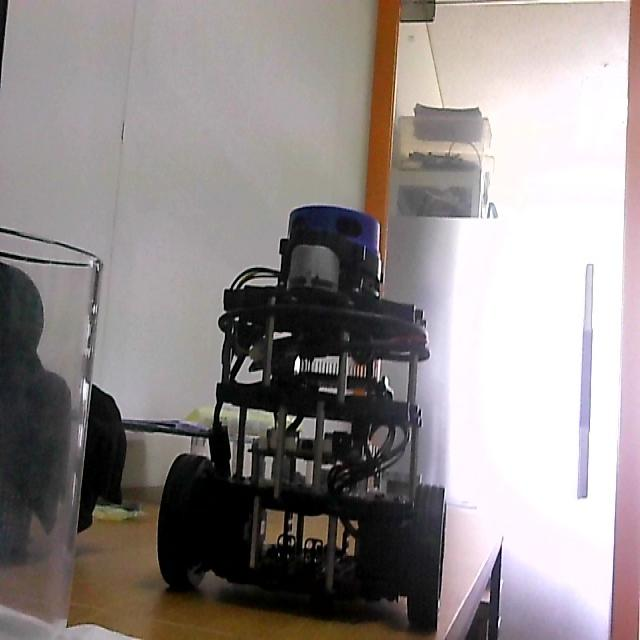turtle: (155, 202, 448, 634)
